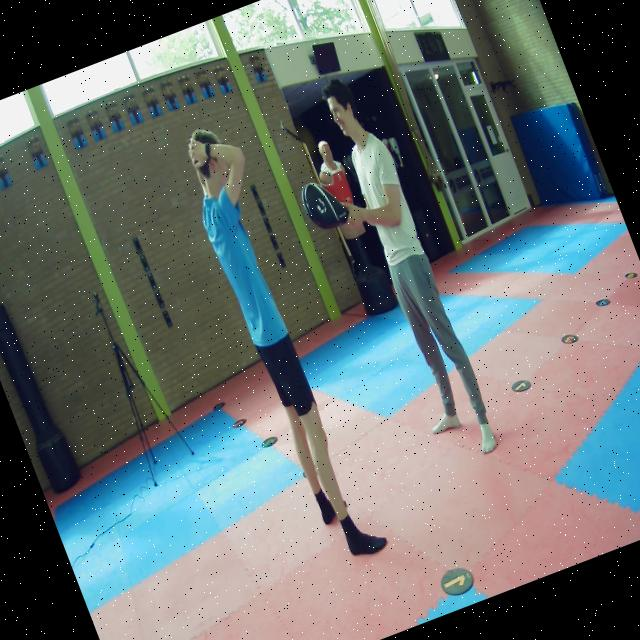paddle: (302, 182, 350, 230)
